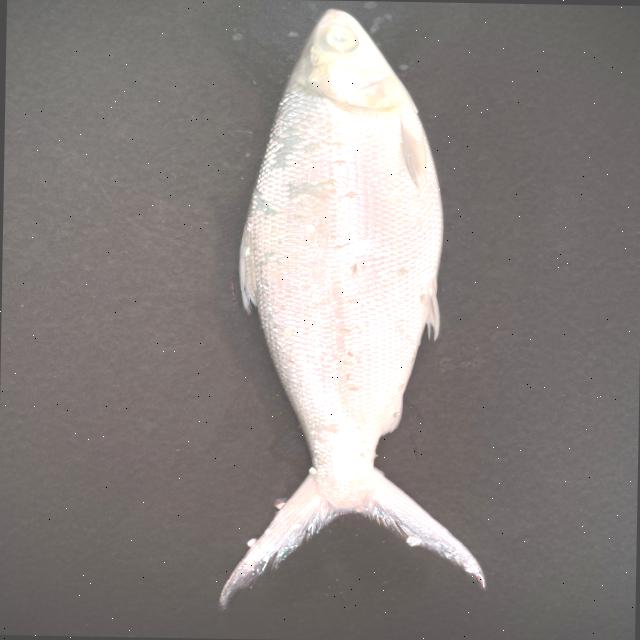940 g: (218, 7, 494, 616)
